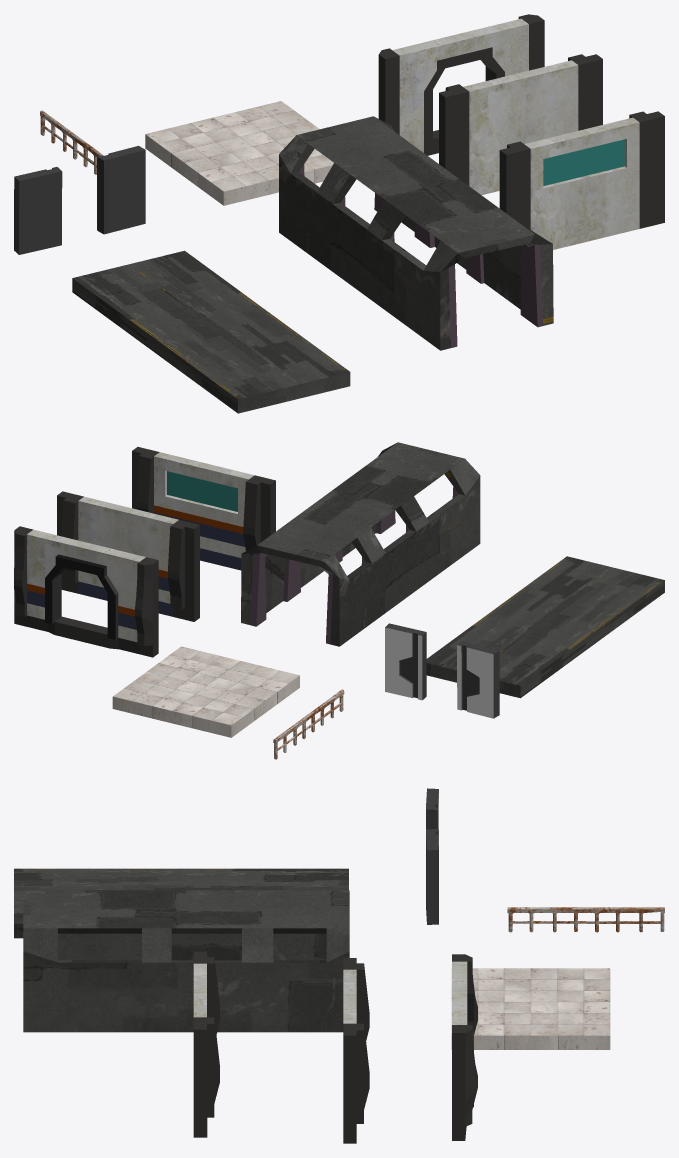
Rendered from Assets Contrsuctros.fbx.
The picture shows the model from 3 angles, top to bottom: view 1: azimuth 30°, elevation 25°; view 2: azimuth 150°, elevation 25°; view 3: azimuth 270°, elevation 25°; orthographic projection. The views are drawn at different scales.
Parts seen in each view (by area): view 1: Tunel, Floor Large, Wall & Windows, Wall, Floor, Wall Door, Door L, Door R, Protector; view 2: Tunel, Floor Large, Wall Door, Wall & Windows, Floor, Wall, Door R, Door L, Protector; view 3: Tunel, Floor, Floor Large, Wall & Windows, Wall, Wall Door, Protector, Door L, Door R.
Part boxes in pixels (box(x1,y1,x2,y2)): Tunel: box(279, 116, 553, 350); Floor Large: box(72, 250, 350, 413); Wall & Windows: box(499, 111, 664, 249); Wall: box(439, 54, 602, 195); Floor: box(145, 101, 333, 205); Wall Door: box(378, 14, 544, 155); Door L: box(97, 145, 145, 234); Door R: box(14, 167, 62, 254); Protector: box(40, 110, 104, 174); Tunel: box(241, 442, 480, 646); Floor Large: box(426, 556, 664, 698); Wall Door: box(14, 526, 158, 657); Wall & Windows: box(132, 447, 275, 570); Floor: box(112, 646, 299, 737); Wall: box(57, 491, 199, 621); Door R: box(457, 641, 499, 718); Door L: box(385, 623, 426, 700); Protector: box(273, 689, 344, 759); Tunel: box(23, 890, 349, 1032); Floor: box(451, 968, 610, 1049); Floor Large: box(14, 868, 348, 938); Wall & Windows: box(193, 951, 219, 1137); Wall: box(343, 958, 369, 1143); Wall Door: box(452, 954, 477, 1140); Protector: box(507, 907, 664, 932); Door L: box(426, 829, 438, 924); Door R: box(426, 788, 438, 845).
Size of the model in its own units: 7975 by 1505 by 8197.
